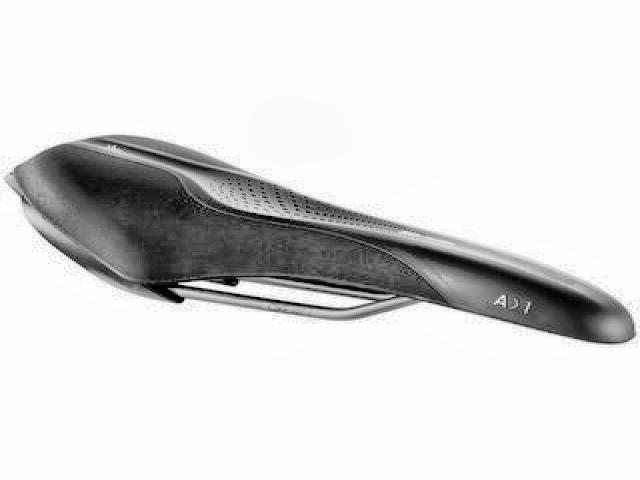saddle: (8, 127, 636, 347)
